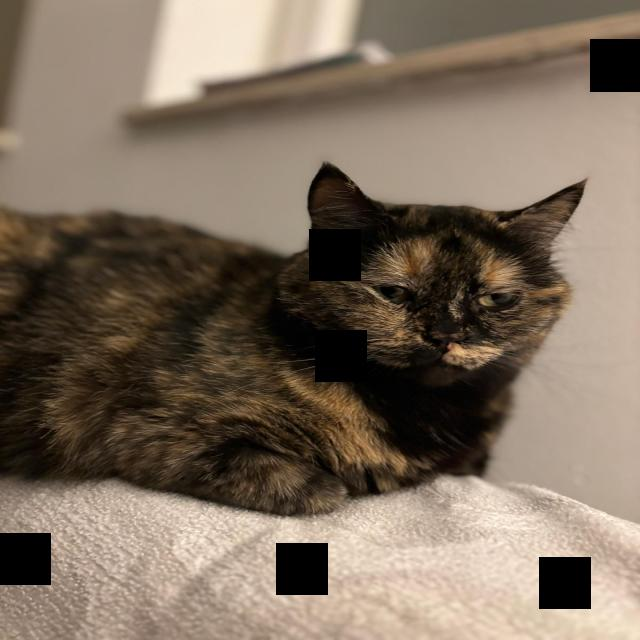authorized: (0, 160, 588, 517)
